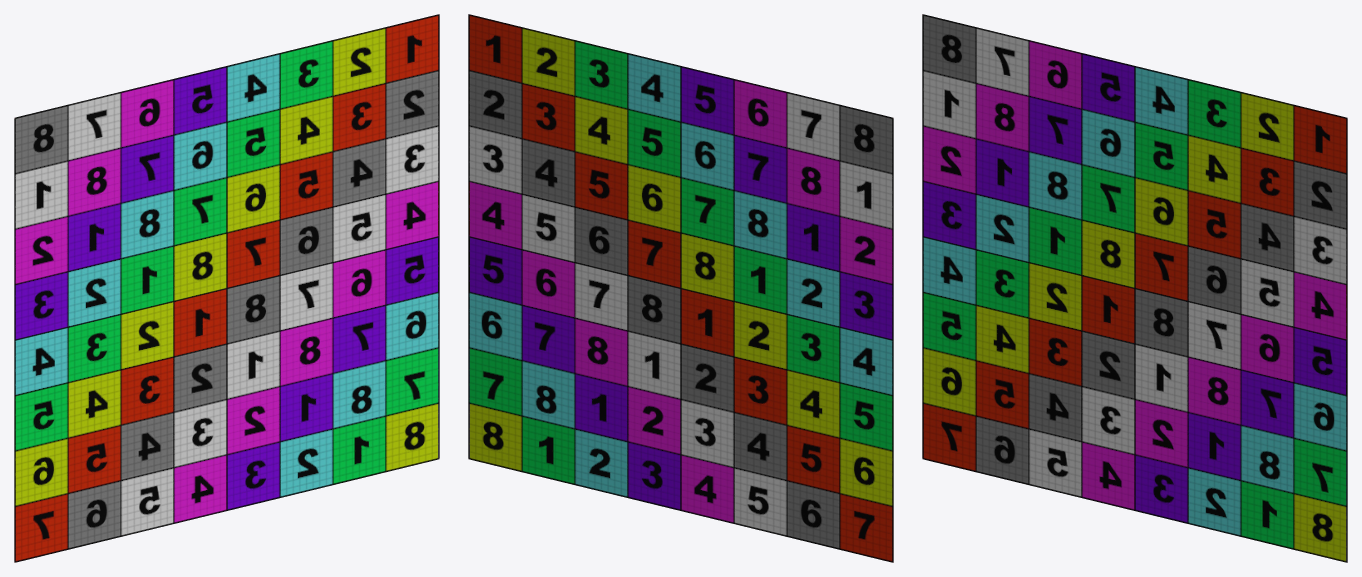
The picture shows the model from 3 angles, left to right: view 1: azimuth 30°, elevation 25°; view 2: azimuth 150°, elevation 25°; view 3: azimuth 330°, elevation 25°; orthographic projection.
Parts seen in each view (by area): view 1: Plane001; view 2: Plane001; view 3: Plane001.
Part boxes in pixels (bbox=[...]): Plane001: bbox=[14, 14, 439, 562]; Plane001: bbox=[468, 14, 893, 562]; Plane001: bbox=[922, 14, 1347, 562].
Size of the model in its own units: 1000 by 1000 by 0.00027.
Materials: 1 (1 with a texture image).
